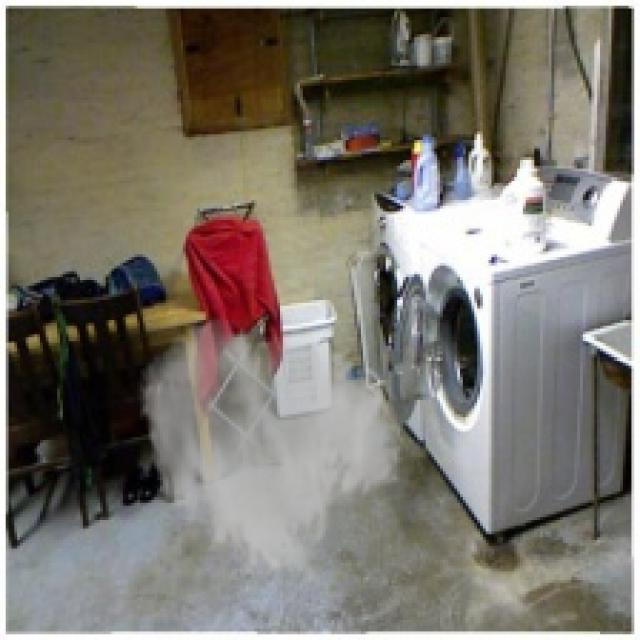smoke: (137, 314, 406, 592)
